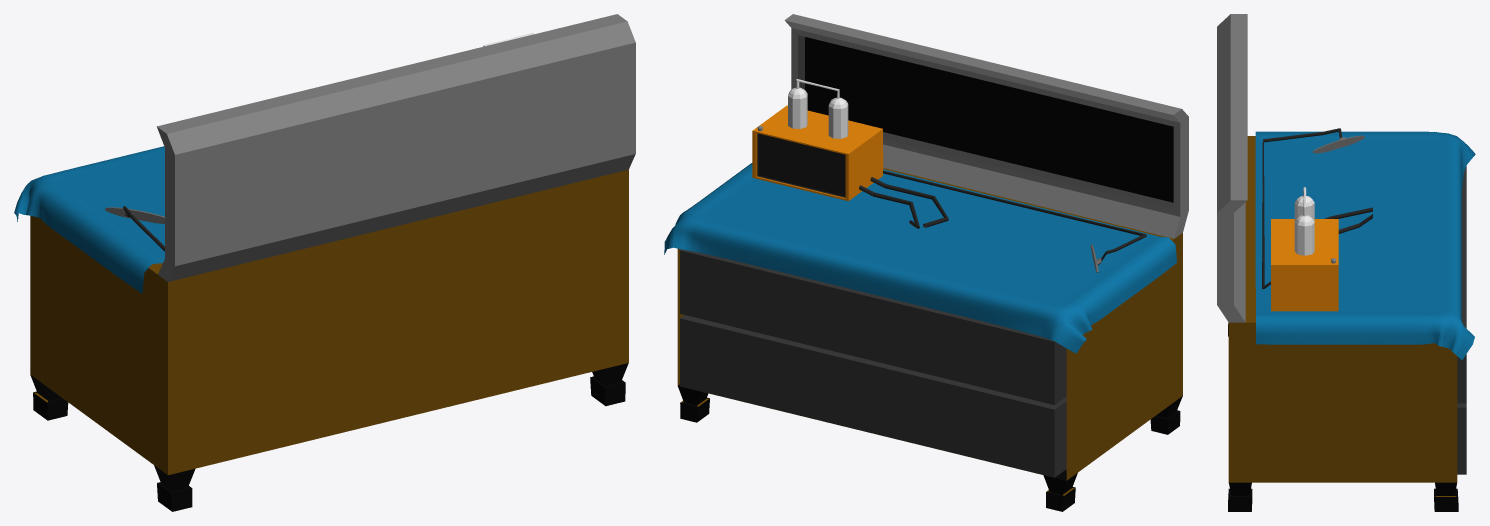
File: BatteryChargerCounter.fbx
The picture shows the model from 3 angles, left to right: view 1: azimuth 30°, elevation 25°; view 2: azimuth 150°, elevation 25°; view 3: azimuth 270°, elevation 25°; orthographic projection. The views are drawn at different scales.
Visible parts, largest first — view 1: BaseCounter, Base_Texture_BlueTie, BatteryCharger; view 2: BaseCounter, Base_Texture_BlueTie, BatteryCharger; view 3: BaseCounter, Base_Texture_BlueTie, BatteryCharger.
Boxes of the visible parts, x1,y1,x2,y2 form: BaseCounter: (30,14,635,511); Base_Texture_BlueTie: (14,146,164,293); BatteryCharger: (105,33,533,251); BaseCounter: (677,14,1188,511); Base_Texture_BlueTie: (664,163,1176,353); BatteryCharger: (752,79,1146,272); BaseCounter: (1217,14,1466,511); Base_Texture_BlueTie: (1255,131,1475,359); BatteryCharger: (1262,128,1372,311).
Bounding box in the file's own units: 209 × 113 × 151.
